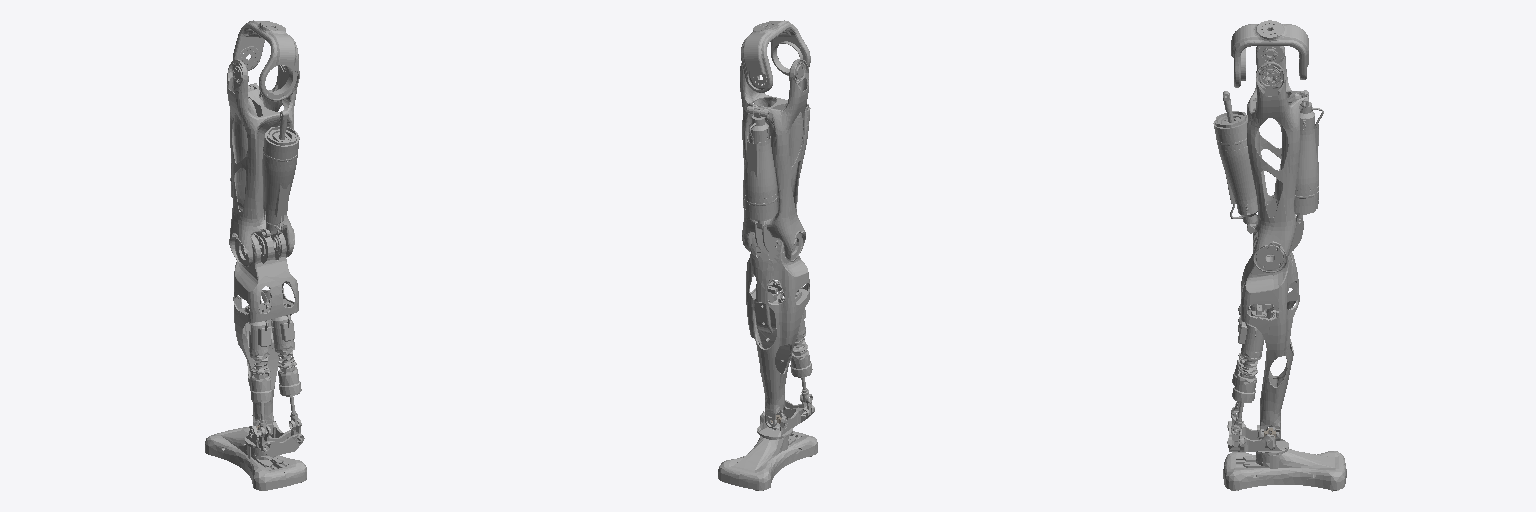
--- Facts derived from the render (not from the file) ---
The picture shows the robot from 3 angles, left to right: view 1: azimuth 30°, elevation 25°; view 2: azimuth 150°, elevation 25°; view 3: azimuth 270°, elevation 25°; orthographic projection.
Model RH5 with 14 links and 13 joints (6 revolute, 7 fixed), rooted at RH5_Root_Link, posed every joint at zero.
Links seen in each view (by area): view 1: LLKnee_Link, LLHip3_Link, LLAnkle_FT, LLHip2_Link, LLHip1_Link; view 2: LLHip3_Link, LLKnee_Link, LLAnkle_FT, LLHip1_Link; view 3: LLHip3_Link, LLKnee_Link, LLAnkle_FT, LLHip2_Link, LLHip1_Link.
Boxes of the visible links, bbox=[...] form: LLKnee_Link: bbox=[233, 233, 301, 435]; LLHip3_Link: bbox=[227, 59, 297, 266]; LLAnkle_FT: bbox=[205, 421, 306, 490]; LLHip2_Link: bbox=[262, 110, 299, 235]; LLHip1_Link: bbox=[233, 20, 299, 101]; LLHip3_Link: bbox=[740, 59, 808, 261]; LLKnee_Link: bbox=[746, 221, 812, 427]; LLAnkle_FT: bbox=[718, 400, 817, 490]; LLHip1_Link: bbox=[741, 20, 810, 92]; LLHip3_Link: bbox=[1247, 46, 1323, 272]; LLKnee_Link: bbox=[1232, 219, 1303, 440]; LLAnkle_FT: bbox=[1223, 421, 1346, 491]; LLHip2_Link: bbox=[1213, 91, 1257, 224]; LLHip1_Link: bbox=[1231, 20, 1308, 87].
Size in the robot's own frame: 0.15 by 0.2706 by 1.04 metres.
17 mesh visuals loaded from 19 distinct referenced files (17 binary STL); not drawn: 2 (reference not matched to a file when rendering).

robot.urdf — RH5:
<robot name="RH5">
  <joint name="FLC_FrontLeft" type="fixed">
    <origin xyz="0.13 -0.04 0.0274" rpy="3.1416 0.0 0.0"/>
    <axis xyz="0.0 0.0 0.0"/>
    <parent link="LLAnkle_FT"/>
    <child link="FLC_FrontLeft_Link"/>
  </joint>
  <link name="FLC_FrontLeft_Link">
    <collision name="FLC_FrontLeft_Collision">
      <origin xyz="0.0 0.0 0.0" rpy="0.0 0.0 0.0"/>
      <geometry>
        <sphere radius="0.017"/>
      </geometry>
    </collision>
  </link>
  <joint name="FLC_FrontRight" type="fixed">
    <origin xyz="0.13 0.04 0.0274" rpy="3.1416 0.0 0.0"/>
    <axis xyz="0.0 0.0 0.0"/>
    <parent link="LLAnkle_FT"/>
    <child link="FLC_FrontRight_Link"/>
  </joint>
  <link name="FLC_FrontRight_Link">
    <collision name="FLC_FrontRight_Collision">
      <origin xyz="0.0 0.0 0.0" rpy="0.0 0.0 0.0"/>
      <geometry>
        <sphere radius="0.017"/>
      </geometry>
    </collision>
  </link>
  <joint name="FLC_RearLeft" type="fixed">
    <origin xyz="-0.07 -0.04 0.0274" rpy="3.1416 0.0 0.0"/>
    <axis xyz="0.0 0.0 0.0"/>
    <parent link="LLAnkle_FT"/>
    <child link="FLC_RearLeft_Link"/>
  </joint>
  <link name="FLC_RearLeft_Link">
    <collision name="FLC_RearLeft_Collision">
      <origin xyz="0.0 0.0 0.0" rpy="0.0 0.0 0.0"/>
      <geometry>
        <sphere radius="0.017"/>
      </geometry>
    </collision>
  </link>
  <joint name="FLC_RearRight" type="fixed">
    <origin xyz="-0.07 0.04 0.0274" rpy="3.1416 0.0 0.0"/>
    <axis xyz="0.0 0.0 0.0"/>
    <parent link="LLAnkle_FT"/>
    <child link="FLC_RearRight_Link"/>
  </joint>
  <link name="FLC_RearRight_Link">
    <collision name="FLC_RearRight_Collision">
      <origin xyz="0.0 0.0 0.0" rpy="0.0 0.0 0.0"/>
      <geometry>
        <sphere radius="0.017"/>
      </geometry>
    </collision>
  </link>
  <link name="FL_SupportCenter"/>
  <joint name="FL_SupportCenter" type="fixed">
    <origin xyz="0.03 0.0 0.0444" rpy="3.1416 0.0 0.0"/>
    <axis xyz="0.0 0.0 0.0"/>
    <parent link="LLAnkle_FT"/>
    <child link="FL_SupportCenter"/>
  </joint>
  <!--joint name="FRC_FrontLeft" type="fixed">
    <origin xyz="0.13 -0.04 0.0274" rpy="3.1416 0.0 0.0"/>
    <axis xyz="0.0 0.0 0.0"/>
    <parent link="LRAnkle_FT"/>
    <child link="FRC_FrontLeft_Link"/>
  </joint>
  <link name="FRC_FrontLeft_Link">
    <collision name="FRC_FrontLeft_Collision">
      <origin xyz="0.0 0.0 0.0" rpy="0.0 0.0 0.0"/>
      <geometry>
        <sphere radius="0.017"/>
      </geometry>
    </collision>
  </link>
  <joint name="FRC_FrontRight" type="fixed">
    <origin xyz="0.13 0.04 0.0274" rpy="3.1416 0.0 0.0"/>
    <axis xyz="0.0 0.0 0.0"/>
    <parent link="LRAnkle_FT"/>
    <child link="FRC_FrontRight_Link"/>
  </joint>
  <link name="FRC_FrontRight_Link">
    <collision name="FRC_FrontRight_Collision">
      <origin xyz="0.0 0.0 0.0" rpy="0.0 0.0 0.0"/>
      <geometry>
        <sphere radius="0.017"/>
      </geometry>
    </collision>
  </link>
  <joint name="FRC_RearLeft" type="fixed">
    <origin xyz="-0.07 -0.04 0.0274" rpy="3.1416 0.0 0.0"/>
    <axis xyz="0.0 0.0 0.0"/>
    <parent link="LRAnkle_FT"/>
    <child link="FRC_RearLeft_Link"/>
  </joint>
  <link name="FRC_RearLeft_Link">
    <collision name="FRC_RearLeft_Collision">
      <origin xyz="0.0 0.0 0.0" rpy="0.0 0.0 0.0"/>
      <geometry>
        <sphere radius="0.017"/>
      </geometry>
    </collision>
  </link>
  <joint name="FRC_RearRight" type="fixed">
    <origin xyz="-0.07 0.04 0.0274" rpy="3.1416 0.0 0.0"/>
    <axis xyz="0.0 0.0 0.0"/>
    <parent link="LRAnkle_FT"/>
    <child link="FRC_RearRight_Link"/>
  </joint>
  <link name="FRC_RearRight_Link">
    <collision name="FRC_RearRight_Collision">
      <origin xyz="0.0 0.0 0.0" rpy="0.0 0.0 0.0"/>
      <geometry>
        <sphere radius="0.017"/>
      </geometry>
    </collision>
  </link>
  <link name="FR_SupportCenter"/>
  <joint name="FR_SupportCenter" type="fixed">
    <origin xyz="0.03 0.0 0.0444" rpy="3.1416 0.0 0.0"/>
    <axis xyz="0.0 0.0 0.0"/>
    <parent link="LRAnkle_FT"/>
    <child link="FR_SupportCenter"/>
  </joint-->
  <joint name="IMU" type="fixed">
    <origin xyz="0 0.0 0" rpy="0.0 0 0"/>
    <axis xyz="0.0 0.0 0.0"/>
    <parent link="RH5_Root_Link"/>
    <child link="IMU_Link"/>
  </joint>
  <link name="IMU_Link"/>
  <joint name="LLAnklePitch" type="revolute">
    <origin xyz="0.0 0.0 0.0" rpy="0.0 0.0 0.0"/>
    <axis xyz="0.0 1.0 0.0"/>
    <parent link="LLAnkleRoll_Link"/>
    <child link="LLAnklePitch_Link"/>
    <limit effort="200.0" lower="-0.8988445648" upper="0.7853981634" velocity="6.0"/>
  </joint>
  <link name="LLAnklePitch_Link">
    <inertial>
      <origin xyz="2.8493e-18 -1.3878e-16 0.0" rpy="0.0 0.0 0.0"/>
      <mass value="0.05002825763253648"/>
      <inertia ixx="1.1393245912e-05" ixy="1.7670484276950664e-28" ixz="-1.2474451909533485e-12" iyy="1.0892263576532345e-05" iyz="0.0" izz="2.9520429504676554e-06"/>
    </inertial>
    <visual name="LLAnklePitch_Link_visual">
      <origin xyz="0.0 0.0 0.0" rpy="0.0 0.0 0.0"/>
      <geometry>
        <mesh filename="../meshes/stl/AnklePitch_Link.STL"/>
      </geometry>
      <material name="">
        <color rgba="0.79216 0.81961 0.93333 1.0"/>
      </material>
    </visual>
    <visual name="LLAnkle_E21_Link_visual">
      <origin xyz="-0.07 -0.04 0.0" rpy="-0.05066 -0.0 0.0"/>
      <geometry>
        <mesh filename="../meshes/stl/Ankle_E21_Link.STL"/>
      </geometry>
      <material name="">
        <color rgba="0.69804 0.69804 0.69804 1.0"/>
      </material>
    </visual>
    <visual name="LLAnkle_E11_Link_visual">
      <origin xyz="-0.07 0.04 0.0" rpy="0.05066 -0.0 0.0"/>
      <geometry>
        <mesh filename="../meshes/stl/Ankle_E11_Link.STL"/>
      </geometry>
      <material name="">
        <color rgba="0.69804 0.69804 0.69804 1.0"/>
      </material>
    </visual>
  </link>
  <joint name="LLAnkleRoll" type="revolute">
    <origin xyz="0.42 0.0 0.0015" rpy="1.5708 5.551115123125783e-17 -1.5708"/>
    <axis xyz="1.0 0.0 0.0"/>
    <parent link="LLKnee_Link"/>
    <child link="LLAnkleRoll_Link"/>
    <limit effort="200.0" lower="-0.9948376736" upper="0.9948376736" velocity="6.0"/>
  </joint>
  <link name="LLAnkleRoll_Link">
    <inertial>
      <origin xyz="-4.1608e-08 7.2923e-08 -5.2997e-09" rpy="0.0 0.0 0.0"/>
      <mass value="0.02493"/>
      <inertia ixx="2.9269e-06" ixy="-7.8377e-12" ixz="-1.0382e-12" iyy="1.1591e-06" iyz="1.5876e-12" izz="3.5758e-06"/>
    </inertial>
    <visual name="LLAnkleRoll_Link_visual">
      <origin xyz="0.0 0.0 0.0" rpy="0.0 0.0 0.0"/>
      <geometry>
        <mesh filename="../meshes/stl/AnkleRoll_Link.STL"/>
      </geometry>
      <material name="">
        <color rgba="0.64706 0.61961 0.58824 1.0"/>
      </material>
    </visual>
  </link>
  <link name="LLAnkle_FT">
    <inertial>
      <origin xyz="0.016102 4.5932e-05 0.0078533" rpy="0.0 0.0 0.0"/>
      <mass value="1.2348"/>
      <inertia ixx="0.0018722" ixy="1.7891e-07" ixz="-0.00077672" iyy="0.0072567" iyz="3.8393e-06" izz="0.007267"/>
    </inertial>
    <visual name="LLAnkle_FT_visual">
      <origin xyz="0.0 0.0 0.0" rpy="0.0 0.0 0.0"/>
      <geometry>
        <mesh filename="../meshes/stl/FL_FT_Link.STL"/>
      </geometry>
      <material name="">
        <color rgba="0.69804 0.69804 0.69804 1.0"/>
      </material>
    </visual>
  </link>
  <joint name="LLAnkle_FT" type="fixed">
    <origin xyz="0.0 0.0 -0.058972" rpy="-3.1416 0.0 -1.2151e-16"/>
    <axis xyz="0.0 0.0 0.0"/>
    <parent link="LLAnklePitch_Link"/>
    <child link="LLAnkle_FT"/>
  </joint>
  <joint name="LLHip1" type="revolute">
    <!--origin xyz="0.0735 0.11044 0.014269" rpy="8.0247e-16 0.2618 -1.5708"/-->
    <!--origin xyz="0.0 0.0 0.0" rpy="8.0247e-16 0.2618 -1.5708"/-->
    <origin xyz="-0.11044 0.0735 0.01427" rpy="0 0.2618 0"/>
    <axis xyz="0.0 0.0 1.0"/>
    <parent link="RH5_Root_Link"/>
    <child link="LLHip1_Link"/>
    <limit effort="135.0" lower="-0.7854" upper="0.7854" velocity="1.8326"/>
  </joint>
  <link name="LLHip1_Link">
    <inertial>
      <origin xyz="-4.7812e-08 -0.0016168 0.04962" rpy="0.0 0.0 0.0"/>
      <mass value="0.5"/>
      <inertia ixx="0.0020247" ixy="7.2405e-09" ixz="3.8164e-09" iyy="0.00095765" iyz="-0.00012913" izz="0.0015078"/>
    </inertial>
    <visual name="LLHip1_Link_visual">
      <origin xyz="0.0 0.0 0.0" rpy="0.0 0.0 0.0"/>
      <geometry>
        <mesh filename="../meshes/stl/LLHip1_Link.STL"/>
      </geometry>
      <material name="">
        <color rgba="0.69804 0.69804 0.69804 1.0"/>
      </material>
    </visual>
  </link>
  <joint name="LLHip2" type="revolute">
    <origin xyz="0.0 0.0 0.0" rpy="9.8608e-32 2.7756e-17 -4.9304e-32"/>
    <axis xyz="0.0 1.0 0.0"/>
    <parent link="LLHip1_Link"/>
    <child link="LLHip2_Link"/>
    <limit effort="135.0" lower="-0.4363" upper="0.8727" velocity="1.8326"/>
  </joint>
  <link name="LLHip2_Link">
    <inertial>
      <origin xyz="0.0013954 0.0024309 -0.0053241" rpy="0.0 0.0 0.0"/>
      <mass value="2.3580361324518035"/>
      <inertia ixx="0.008083434004413779" ixy="2.6244834705305358e-05" ixz="0.0015310237705679207" iyy="0.007915769158281745" iyz="-9.344933737144451e-05" izz="0.0027252481373044738"/>
    </inertial>
    <visual name="LLHip2_Link_visual">
      <origin xyz="0.0 0.0 0.0" rpy="0.0 0.0 0.0"/>
      <geometry>
        <mesh filename="../meshes/stl/LLHip2_Link.STL"/>
      </geometry>
      <material name="">
        <color rgba="0.69804 0.69804 0.69804 1.0"/>
      </material>
    </visual>
    <visual name="LLHip3_B11_Link_visual">
      <origin xyz="0.018117 -0.09 -0.067615" rpy="-2.5686 1.2576999999999998 0.5958800000000001"/>
      <geometry>
        <mesh filename="../meshes/stl/Hip3_B11_Link.STL"/>
      </geometry>
      <material name="">
        <color rgba="0.69804 0.69804 0.69804 1.0"/>
      </material>
    </visual>
    <visual name="LLHip3_Act1_Link_visual">
      <origin xyz="0.09393098308289657 -0.038590125898753366 -0.3505567339559511" rpy="0.5729999999999998 1.2576999999999994 0.5958800000000001"/>
      <geometry>
        <mesh filename="../meshes/stl/LLHip3_Act1_Link.STL"/>
      </geometry>
      <material name="">
        <color rgba="0.69804 0.69804 0.69804 1.0"/>
      </material>
    </visual>
  </link>
  <joint name="LLHip3" type="revolute">
    <origin xyz="0.0 0.0 0.0" rpy="9.8608e-32 2.7756e-17 -4.9304e-32"/>
    <axis xyz="-0.96593 0.0 -0.25882"/>
    <parent link="LLHip2_Link"/>
    <child link="LLHip3_Link"/>
    <limit effort="378.0" lower="-1.16" upper="0.28" velocity="2.321"/>
  </joint>
  <link name="LLHip3_Link">
    <inertial>
      <origin xyz="0.051263 0.0072511 -0.19232" rpy="0.0 0.0 0.0"/>
      <mass value="2.4377337930824305"/>
      <inertia ixx="0.0267577627146784" ixy="3.2673817728971014e-05" ixz="0.0032268691746643605" iyy="0.029394554214711634" iyz="-0.0001498356765101371" izz="0.005399934370609966"/>
    </inertial>
    <visual name="LLHip3_Link_visual">
      <origin xyz="0.0 0.0 0.0" rpy="0.0 0.0 0.0"/>
      <geometry>
        <mesh filename="../meshes/stl/Hip3_Link.STL"/>
      </geometry>
      <material name="">
        <color rgba="0.69804 0.69804 0.69804 1.0"/>
      </material>
    </visual>
    <collision name="LLHip3_Link_collision">
      <origin xyz="0.05410637838284813 0.005196313895957175 -0.20155622029885475" rpy="2.8786935033165375 0.09046667825579376 1.5464941877752887"/>
      <geometry>
        <box size="0.12200059773407665 0.15002443346404168 0.474515434996993"/>
      </geometry>
    </collision>
    <visual name="LLKnee_B11_Link_visual">
      <origin xyz="0.020175 0.070737 -0.075294" rpy="-0.15080999999999992 1.3059000000000005 -0.15616999999999992"/>
      <geometry>
        <mesh filename="../meshes/stl/Knee_B11_Link.STL"/>
      </geometry>
      <material name="">
        <color rgba="0.69804 0.69804 0.69804 1.0"/>
      </material>
    </visual>
    <visual name="LLKnee_Act1_Link_visual">
      <origin xyz="0.09088512935033356 0.059603540016275505 -0.3391673631423413" rpy="-0.15080999999999994 1.3059000000000005 -0.15616999999999995"/>
      <geometry>
        <mesh filename="../meshes/stl/Knee_Act1_Link.STL"/>
      </geometry>
      <material name="">
        <color rgba="0.69804 0.69804 0.69804 1.0"/>
      </material>
    </visual>
  </link>
  <joint name="LLKnee" type="revolute">
    <origin xyz="0.10788 -0.0005 -0.39684" rpy="3.1416 1.309 -2.9949e-15"/>
    <axis xyz="0.0 0.0 1.0"/>
    <parent link="LLHip3_Link"/>
    <child link="LLKnee_Link"/>
    <limit effort="325.0" lower="-0.026" upper="1.43" velocity="2.321"/>
  </joint>
  <link name="LLKnee_Link">
    <inertial>
      <origin xyz="0.11911 -0.001888 0.00058411" rpy="0.0 0.0 0.0"/>
      <mass value="2.3690392835599923"/>
      <inertia ixx="0.007186070874806159" ixy="-5.408981012900345e-05" ixz="-0.00010460818246783018" iyy="0.015334532906158908" iyz="-0.0009184931600015315" izz="0.019875099619034924"/>
    </inertial>
    <visual name="LLKnee_Link_visual">
      <origin xyz="0.0 0.0 0.0" rpy="0.0 0.0 0.0"/>
      <geometry>
        <mesh filename="../meshes/stl/Knee_Link.STL"/>
      </geometry>
      <material name="">
        <color rgba="0.69804 0.69804 0.69804 1.0"/>
      </material>
    </visual>
    <collision name="LLKnee_Link_collision">
      <origin xyz="0.18142876774072647 -0.003944786265492439 0.0014998912811279297" rpy="0.0 -0.0 0.0"/>
      <geometry>
        <box size="0.5021360367536545 0.12789290770888329 0.11989995092153549"/>
      </geometry>
    </collision>
    <visual name="LLAnkle_B11_Link_visual">
      <origin xyz="0.12872999008627622 0.022301069894637288 0.02649893010538089" rpy="1.5201995950723244 -1.9755524692725744e-06 1.7452956535986952"/>
      <geometry>
        <mesh filename="../meshes/stl/Ankle_B11_Link.STL"/>
      </geometry>
      <material name="">
        <color rgba="0.69804 0.69804 0.69804 1.0"/>
      </material>
    </visual>
    <visual name="LLAnkle_B12_Link_visual">
      <origin xyz="0.12872999008627622 0.022301069894637288 0.02649893010538089" rpy="1.6213921335695103 0.0003060746390916892 -1.4023021588708646"/>
      <geometry>
        <mesh filename="../meshes/stl/Ankle_B12_Link.STL"/>
      </geometry>
      <material name="">
        <color rgba="0.69804 0.69804 0.69804 1.0"/>
      </material>
    </visual>
    <visual name="LLAnkle_Act1_Link_visual">
      <origin xyz="0.39059846357402106 0.06684327487261481 0.03995015565913803" rpy="-3.135543074958524 1.5202022485750566 0.17453865585220907"/>
      <geometry>
        <mesh filename="../meshes/stl/Ankle_Act1_Link.STL"/>
      </geometry>
      <material name="">
        <color rgba="0.69804 0.69804 0.69804 1.0"/>
      </material>
    </visual>
    <visual name="LLAnkle_B21_Link_visual">
      <origin xyz="0.1287301737465314 0.022301069893962668 -0.023501069894281797" rpy="1.6214049022519106 -1.9755524692725744e-06 1.7452956535986952"/>
      <geometry>
        <mesh filename="../meshes/stl/Ankle_B21_Link.STL"/>
      </geometry>
      <material name="">
        <color rgba="0.69804 0.69804 0.69804 1.0"/>
      </material>
    </visual>
    <visual name="LLAnkle_B22_Link_visual">
      <origin xyz="0.1287301737465314 0.022301069893962668 -0.023501069894281797" rpy="1.520188652771982 -0.00030219472845357864 -1.4023021552616228"/>
      <geometry>
        <mesh filename="../meshes/stl/Ankle_B22_Link.STL"/>
      </geometry>
      <material name="">
        <color rgba="0.69804 0.69804 0.69804 1.0"/>
      </material>
    </visual>
    <visual name="LLAnkle_Act2_Link_visual">
      <origin xyz="0.39059848109430023 0.06684329955582428 -0.03695544775297088" rpy="1.520188652771982 -0.00030219472845357864 -1.4023021552616228"/>
      <geometry>
        <mesh filename="../meshes/stl/Ankle_Act2_Link.STL"/>
      </geometry>
      <material name="">
        <color rgba="0.69804 0.69804 0.69804 1.0"/>
      </material>
    </visual>
  </link>
  <!--joint name="LRAnklePitch" type="revolute">
    <origin xyz="0.0 0.0 0.0" rpy="0.0 0.0 0.0"/>
    <axis xyz="0.0 1.0 0.0"/>
    <parent link="LRAnkleRoll_Link"/>
    <child link="LRAnklePitch_Link"/>
    <limit effort="200.0" lower="-0.8988445648" upper="0.7853981634" velocity="6.0"/>
  </joint>
  <link name="LRAnklePitch_Link">
    <inertial>
      <origin xyz="2.8493e-18 -1.3878e-16 0.0" rpy="0.0 0.0 0.0"/>
      <mass value="0.05002825763253648"/>
      <inertia ixx="1.1393245912e-05" ixy="1.7670484276950664e-28" ixz="-1.2474451909533485e-12" iyy="1.0892263576532345e-05" iyz="0.0" izz="2.9520429504676554e-06"/>
    </inertial>
    <visual name="LRAnklePitch_Link_visual">
      <origin xyz="0.0 0.0 0.0" rpy="0.0 0.0 0.0"/>
      <geometry>
        <mesh filename="../meshes/stl/AnklePitch_Link.STL"/>
      </geometry>
      <material name="">
        <color rgba="0.79216 0.81961 0.93333 1.0"/>
      </material>
    </visual>
    <visual name="LRAnkle_E21_Link_visual">
      <origin xyz="-0.07 -0.04 0.0" rpy="-0.05066 -0.0 0.0"/>
      <geometry>
        <mesh filename="../meshes/stl/Ankle_E21_Link.STL"/>
      </geometry>
      <material name="">
        <color rgba="0.69804 0.69804 0.69804 1.0"/>
      </material>
    </visual>
    <visual name="LRAnkle_E11_Link_visual">
      <origin xyz="-0.07 0.04 0.0" rpy="0.05066 -0.0 0.0"/>
      <geometry>
        <mesh filename="../meshes/stl/Ankle_E11_Link.STL"/>
      </geometry>
      <material name="">
        <color rgba="0.69804 0.69804 0.69804 1.0"/>
      </material>
    </visual>
  </link>
  <joint name="LRAnkleRoll" type="revolute">
    <origin xyz="0.42 0.0 0.0015" rpy="1.5708 5.551115123125783e-17 -1.5708"/>
    <axis xyz="1.0 0.0 0.0"/>
    <parent link="LRKnee_Link"/>
    <child link="LRAnkleRoll_Link"/>
    <limit effort="200.0" lower="-0.9948376736" upper="0.9948376736" velocity="6.0"/>
  </joint>
  <link name="LRAnkleRoll_Link">
    <inertial>
      <origin xyz="-4.1608e-08 7.2923e-08 -5.2997e-09" rpy="0.0 0.0 0.0"/>
      <mass value="0.02493"/>
      <inertia ixx="2.9269e-06" ixy="-7.8377e-12" ixz="-1.0382e-12" iyy="1.1591e-06" iyz="1.5876e-12" izz="3.5758e-06"/>
    </inertial>
    <visual name="LRAnkleRoll_Link_visual">
      <origin xyz="0.0 0.0 0.0" rpy="0.0 0.0 0.0"/>
      <geometry>
        <mesh filename="../meshes/stl/AnkleRoll_Link.STL"/>
      </geometry>
      <material name="">
        <color rgba="0.64706 0.61961 0.58824 1.0"/>
      </material>
    </visual>
  </link>
  <link name="LRAnkle_FT">
    <inertial>
      <origin xyz="0.016102 4.5932e-05 0.0078533" rpy="0.0 0.0 0.0"/>
      <mass value="1.2348"/>
      <inertia ixx="0.0018722" ixy="1.7891e-07" ixz="-0.00077672" iyy="0.0072567" iyz="3.8393e-06" izz="0.007267"/>
    </inertial>
    <visual name="LRAnkle_FT_visual">
      <origin xyz="0.0 0.0 0.0" rpy="0.0 0.0 0.0"/>
      <geometry>
        <mesh filename="../meshes/stl/FL_FT_Link.STL"/>
      </geometry>
      <material name="">
        <color rgba="0.69804 0.69804 0.69804 1.0"/>
      </material>
    </visual>
  </link>
  <joint name="LRAnkle_FT" type="fixed">
    <origin xyz="0.0 0.0 -0.058972" rpy="-3.1416 0.0 -1.2151e-16"/>
    <axis xyz="0.0 0.0 0.0"/>
    <parent link="LRAnklePitch_Link"/>
    <child link="LRAnkle_FT"/>
  </joint>
  <joint name="LRHip1" type="revolute">
    <origin xyz="0.0735 -0.11044 0.014269" rpy="3.4781e-17 -0.2618 -1.5708"/>
    <axis xyz="0.0 0.0 1.0"/>
    <parent link="RH5_Root_Link"/>
    <child link="LRHip1_Link"/>
    <limit effort="135.0" lower="-0.7854" upper="0.7854" velocity="1.8326"/>
  </joint>
  <link name="LRHip1_Link">
    <inertial>
      <origin xyz="-4.5821e-08 -0.0016166 0.04962" rpy="0.0 0.0 0.0"/>
      <mass value="0.5"/>
      <inertia ixx="0.0020247" ixy="8.3227e-09" ixz="3.6838e-09" iyy="0.00095763" iyz="-0.00012913" izz="0.0015078"/>
    </inertial>
    <visual name="LRHip1_Link_visual">
      <origin xyz="0.0 0.0 0.0" rpy="0.0 0.0 0.0"/>
      <geometry>
        <mesh filename="../meshes/stl/LRHip1_Link.STL"/>
      </geometry>
      <material name="">
        <color rgba="0.69804 0.69804 0.69804 1.0"/>
      </material>
    </visual>
  </link>
  <joint name="LRHip2" type="revolute">
    <origin xyz="0.0 0.0 0.0" rpy="-4.0161e-17 0.5236 -2.0081e-17"/>
    <axis xyz="0.0 1.0 0.0"/>
    <parent link="LRHip1_Link"/>
    <child link="LRHip2_Link"/>
    <limit effort="135.0" lower="-0.8727" upper="0.4363" velocity="1.8326"/>
  </joint>
  <link name="LRHip2_Link">
    <inertial>
      <origin xyz="0.0013954 0.0024309 -0.0053241" rpy="0.0 0.0 0.0"/>
      <mass value="2.3580361324518035"/>
      <inertia ixx="0.008083434004413779" ixy="2.6244834705305358e-05" ixz="0.0015310237705679207" iyy="0.007915769158281745" iyz="-9.344933737144451e-05" izz="0.0027252481373044738"/>
    </inertial>
    <visual name="LRHip2_Link_visual">
      <origin xyz="0.0 0.0 0.0" rpy="0.0 0.0 0.0"/>
      <geometry>
        <mesh filename="../meshes/stl/LRHip2_Link.STL"/>
      </geometry>
      <material name="">
        <color rgba="0.69804 0.69804 0.69804 1.0"/>
      </material>
    </visual>
    <visual name="LRHip3_B11_Link_visual">
      <origin xyz="0.018117 -0.09 -0.067615" rpy="-2.5686 1.2576999999999998 0.5958800000000001"/>
      <geometry>
        <mesh filename="../meshes/stl/Hip3_B11_Link.STL"/>
      </geometry>
      <material name="">
        <color rgba="0.69804 0.69804 0.69804 1.0"/>
      </material>
    </visual>
    <visual name="LRHip3_Act1_Link_visual">
      <origin xyz="0.09393098308289657 -0.038590125898753366 -0.3505567339559511" rpy="0.5729999999999998 1.2576999999999994 0.5958800000000001"/>
      <geometry>
        <mesh filename="../meshes/stl/LLHip3_Act1_Link.STL"/>
      </geometry>
      <material name="">
        <color rgba="0.69804 0.69804 0.69804 1.0"/>
      </material>
    </visual>
  </link>
  <joint name="LRHip3" type="revolute">
    <origin xyz="0.0 0.0 0.0" rpy="9.8608e-32 2.7756e-17 -4.9304e-32"/>
    <axis xyz="-0.96593 0.0 -0.25882"/>
    <parent link="LRHip2_Link"/>
    <child link="LRHip3_Link"/>
    <limit effort="378.0" lower="-1.16" upper="0.28" velocity="2.321"/>
  </joint>
  <link name="LRHip3_Link">
    <inertial>
      <origin xyz="0.051263 0.0072511 -0.19232" rpy="0.0 0.0 0.0"/>
      <mass value="2.4377337930824305"/>
      <inertia ixx="0.0267577627146784" ixy="3.2673817728971014e-05" ixz="0.0032268691746643605" iyy="0.029394554214711634" iyz="-0.0001498356765101371" izz="0.005399934370609966"/>
    </inertial>
    <visual name="LRHip3_Link_visual">
      <origin xyz="0.0 0.0 0.0" rpy="0.0 0.0 0.0"/>
      <geometry>
        <mesh filename="../meshes/stl/Hip3_Link.STL"/>
      </geometry>
      <material name="">
        <color rgba="0.69804 0.69804 0.69804 1.0"/>
      </material>
    </visual>
    <collision name="LRHip3_Link_collision">
      <origin xyz="0.05410637838284813 0.005196313895957175 -0.20155622029885475" rpy="2.8786935033165375 0.09046667825579376 1.5464941877752887"/>
      <geometry>
        <box size="0.12200059773407665 0.15002443346404168 0.474515434996993"/>
      </geometry>
    </collision>
    <visual name="LRKnee_B11_Link_visual">
      <origin xyz="0.020175 0.070737 -0.075294" rpy="-0.15080999999999992 1.3059000000000005 -0.15616999999999992"/>
      <geometry>
        <mesh filename="../meshes/stl/Knee_B11_Link.STL"/>
      </geometry>
      <material name="">
        <color rgba="0.69804 0.69804 0.69804 1.0"/>
      </material>
    </visual>
    <visual name="LRKnee_Act1_Link_visual">
      <origin xyz="0.09088512935033356 0.059603540016275505 -0.3391673631423413" rpy="-0.15080999999999994 1.3059000000000005 -0.15616999999999995"/>
      <geometry>
        <mesh filename="../meshes/stl/Knee_Act1_Link.STL"/>
      </geometry>
      <material name="">
        <color rgba="0.69804 0.69804 0.69804 1.0"/>
      </material>
    </visual>
  </link>
  <joint name="LRKnee" type="revolute">
    <origin xyz="0.10788 -0.0005 -0.39684" rpy="3.1416 1.309 -2.9949e-15"/>
    <axis xyz="0.0 0.0 1.0"/>
    <parent link="LRHip3_Link"/>
    <child link="LRKnee_Link"/>
    <limit effort="325.0" lower="-0.026" upper="1.43" velocity="2.321"/>
  </joint>
  <link name="LRKnee_Link">
    <inertial>
      <origin xyz="0.11911 -0.001888 0.00058411" rpy="0.0 0.0 0.0"/>
      <mass value="2.369041606483567"/>
      <inertia ixx="0.00718607087481035" ixy="-5.4089810208980605e-05" ixz="-0.00010460818216963791" iyy="0.015334532907684004" iyz="-0.0009184931643303047" izz="0.01987509961750564"/>
    </inertial>
    <visual name="LRKnee_Link_visual">
      <origin xyz="0.0 0.0 0.0" rpy="0.0 0.0 0.0"/>
      <geometry>
        <mesh filename="../meshes/stl/Knee_Link.STL"/>
      </geometry>
      <material name="">
        <color rgba="0.69804 0.69804 0.69804 1.0"/>
      </material>
    </visual>
    <collision name="LRKnee_Link_collision">
      <origin xyz="0.18142876774072647 -0.003944786265492439 0.0014998912811279297" rpy="0.0 -0.0 0.0"/>
      <geometry>
        <box size="0.5021360367536545 0.12789290770888329 0.11989995092153549"/>
      </geometry>
    </collision>
    <visual name="LRAnkle_B11_Link_visual">
      <origin xyz="0.12872999008627622 0.022301069894637288 0.02649893010538089" rpy="1.5201995950723244 -1.9755524692725744e-06 1.7452956535986952"/>
      <geometry>
        <mesh filename="../meshes/stl/Ankle_B11_Link.STL"/>
      </geometry>
      <material name="">
        <color rgba="0.69804 0.69804 0.69804 1.0"/>
      </material>
    </visual>
    <visual name="LRAnkle_B12_Link_visual">
      <origin xyz="0.12872999008627622 0.022301069894637288 0.02649893010538089" rpy="1.6213921335695103 0.0003060746390916892 -1.4023021588708646"/>
      <geometry>
        <mesh filename="../meshes/stl/Ankle_B12_Link.STL"/>
      </geometry>
      <material name="">
        <color rgba="0.69804 0.69804 0.69804 1.0"/>
      </material>
    </visual>
    <visual name="LRAnkle_Act1_Link_visual">
      <origin xyz="0.39059846357402106 0.06684327487261481 0.03995015565913803" rpy="-3.135543074958524 1.5202022485750566 0.17453865585220907"/>
      <geometry>
        <mesh filename="../meshes/stl/Ankle_Act1_Link.STL"/>
      </geometry>
      <material name="">
        <color rgba="0.69804 0.69804 0.69804 1.0"/>
      </material>
    </visual>
    <visual name="LRAnkle_B21_Link_visual">
      <origin xyz="0.1287301737465314 0.022301069893962668 -0.023501069894281797" rpy="1.5201877513328248 1.8413153890626716e-06 -1.3962996501833926"/>
      <geometry>
        <mesh filename="../meshes/stl/Ankle_B21_Link.STL"/>
      </geometry>
      <material name="">
        <color rgba="0.69804 0.69804 0.69804 1.0"/>
      </material>
    </visual>
    <visual name="LRAnkle_B22_Link_visual">
      <origin xyz="0.1287301737465314 0.022301069893962668 -0.023501069894281797" rpy="1.520188652771982 -0.00030219472845357864 -1.4023021552616228"/>
      <geometry>
        <mesh filename="../meshes/stl/Ankle_B22_Link.STL"/>
      </geometry>
      <material name="">
        <color rgba="0.69804 0.69804 0.69804 1.0"/>
      </material>
    </visual>
    <visual name="LRAnkle_Act2_Link_visual">
      <origin xyz="0.39059848109430023 0.06684329955582428 -0.03695544775297088" rpy="1.520188652771982 -0.00030219472845357864 -1.4023021552616228"/>
      <geometry>
        <mesh filename="../meshes/stl/Ankle_Act2_Link.STL"/>
      </geometry>
      <material name="">
        <color rgba="0.69804 0.69804 0.69804 1.0"/>
      </material>
    </visual>
  </link>
  <link name="RH5_Root_Link">
    <inertial>
      <origin xyz="0.057726 2.1253e-05 0.13284" rpy="0.0 0.0 0.0"/>
      <mass value="4.80289768335972"/>
      <inertia ixx="0.03304656577513494" ixy="-3.6100616894227637e-06" ixz="-0.0020457081602203537" iyy="0.021956704" iyz="-5.465636509300982e-06" izz="0.03752923602486506"/>
    </inertial>
    <visual name="RH5_Root_Link_visual">
      <origin xyz="0.0 0.0 0.0" rpy="0.0 0.0 0.0"/>
      <geometry>
        <mesh filename="../meshes/stl/RH5_Root_Link.STL"/>
      </geometry>
      <material name="">
        <color rgba="0.69804 0.69804 0.69804 1.0"/>
      </material>
    </visual>
    <collision name="RH5_Root_Link_collision">
      <origin xyz="0.04128999263048172 0.0 0.1133179023017874" rpy="0.0 -0.0 0.0"/>
      <geometry>
        <box size="0.2746039479970932 0.3261495530605316 0.22715241627884097"/>
      </geometry>
    </collision>
  </link-->
  <link name="RH5_Root_Link">
    <inertial>
      <origin xyz="0 0 0" rpy="0.0 0.0 0.0"/>
      <mass value="0"/>
      <inertia ixx="0" ixy="0" ixz="0" iyy="0" iyz="-0" izz="0"/>
    </inertial>
  </link>
</robot>
